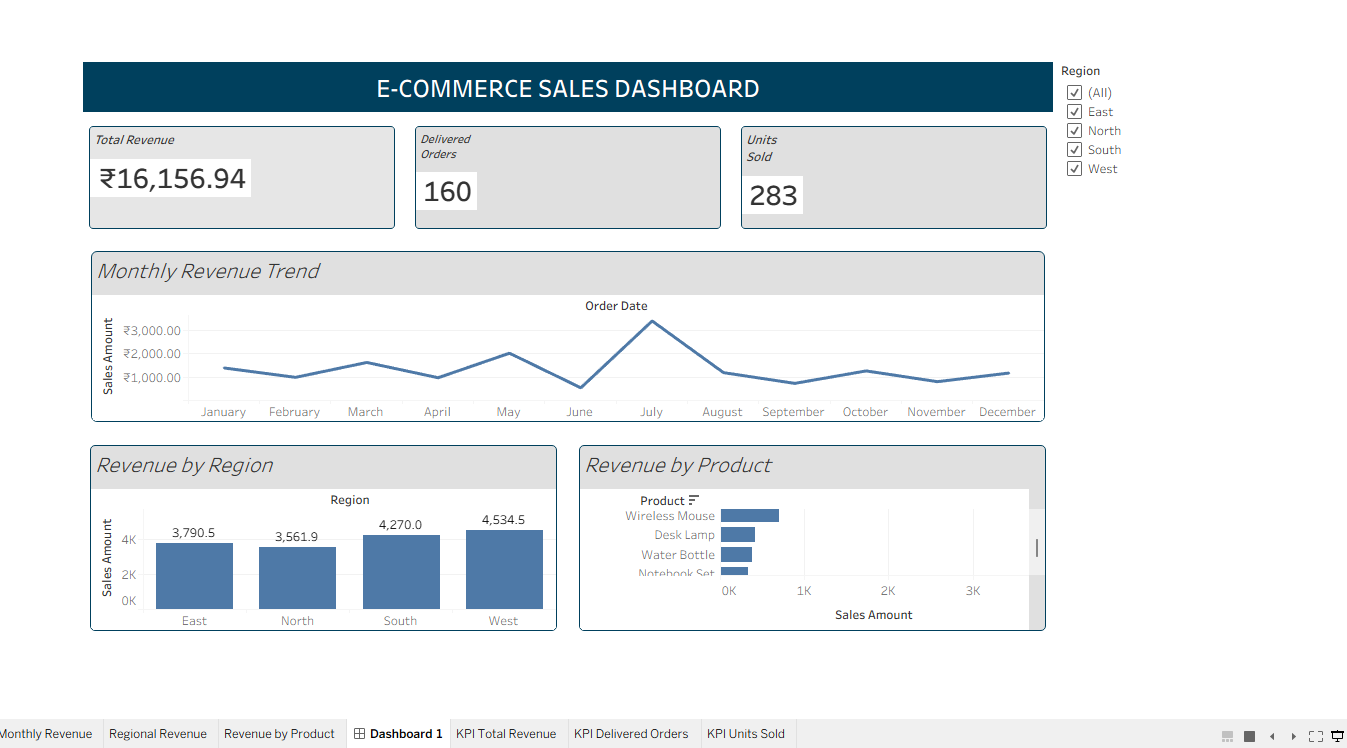

The page's visual inventory and layout, read from the dashboard file:
{"tool":"tableau","page":{"name":"Dashboard 1","canvas":[1200,600],"ordinal":0},"visuals":[{"type":"text","box":[8,8,978,58]},{"type":"filter","title":"Regional Revenue","param":"[federated.0rce6jt0xlz25a110nfe20q8jrur].[none:Region:nk]","box":[986,8,206,127]},{"type":"worksheet","title":"KPI Total Revenue","mark":"Automatic","box":[8,66,326,123]},{"type":"worksheet","title":"KPI Delivered Orders","mark":"Automatic","box":[334,66,326,123]},{"type":"worksheet","title":"KPI Units Sold","mark":"Automatic","box":[660,66,326,123]},{"type":"worksheet","title":"Monthly Revenue","mark":"Line","rows":["SalesAmount"],"cols":["OrderDate"],"box":[8,189,978,186]},{"type":"worksheet","title":"Regional Revenue","mark":"Bar","rows":["SalesAmount"],"cols":["Region"],"box":[8,375,488.9,217]},{"type":"worksheet","title":"Revenue by Product","mark":"Automatic","rows":["Product"],"cols":["SalesAmount"],"box":[496.9,375,489.1,217]}]}

Visuals, with their boxes on the page's 1200x600 design canvas (x1, y1, x2, y2). These are canvas units, not pixel positions in the 1347x748 screenshot, which may show the page scaled, cropped or inside an application window:
text: rect(8, 8, 986, 66)
"Regional Revenue" filter: rect(986, 8, 1192, 135)
"KPI Total Revenue" worksheet: rect(8, 66, 334, 189)
"KPI Delivered Orders" worksheet: rect(334, 66, 660, 189)
"KPI Units Sold" worksheet: rect(660, 66, 986, 189)
"Monthly Revenue" worksheet (Line marks): rect(8, 189, 986, 375)
"Regional Revenue" worksheet (Bar marks): rect(8, 375, 497, 592)
"Revenue by Product" worksheet: rect(497, 375, 986, 592)
